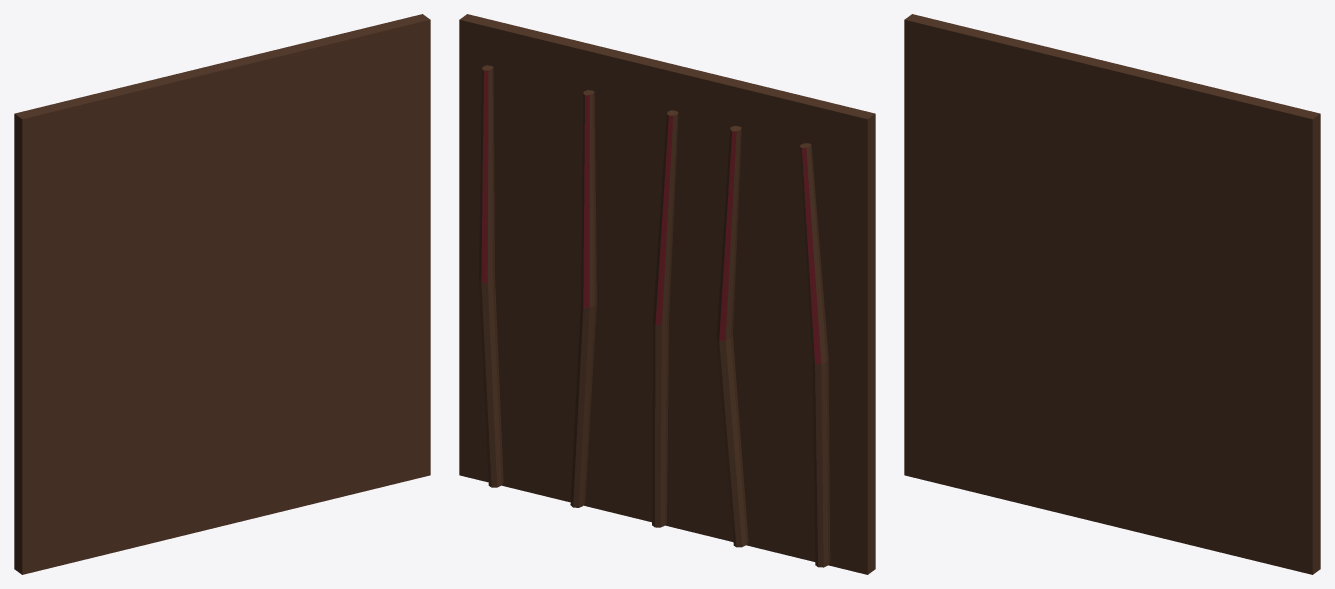
File: THORN_VEIL_MEMBRANE_LODs.fbx
The picture shows the model from 3 angles, left to right: view 1: azimuth 30°, elevation 25°; view 2: azimuth 150°, elevation 25°; view 3: azimuth 330°, elevation 25°; orthographic projection.
Parts seen in each view (by area): view 1: THORN_VEIL_MEMBRANE_LOD0; view 2: THORN_VEIL_MEMBRANE_LOD0; view 3: THORN_VEIL_MEMBRANE_LOD0.
Part boxes in pixels (left/top/right/bottom): THORN_VEIL_MEMBRANE_LOD0: left=14, top=14, right=430, bottom=574; THORN_VEIL_MEMBRANE_LOD0: left=459, top=14, right=875, bottom=574; THORN_VEIL_MEMBRANE_LOD0: left=904, top=14, right=1320, bottom=574.
Size of what is drawn, in the model's own units: 300 by 320 by 25.
